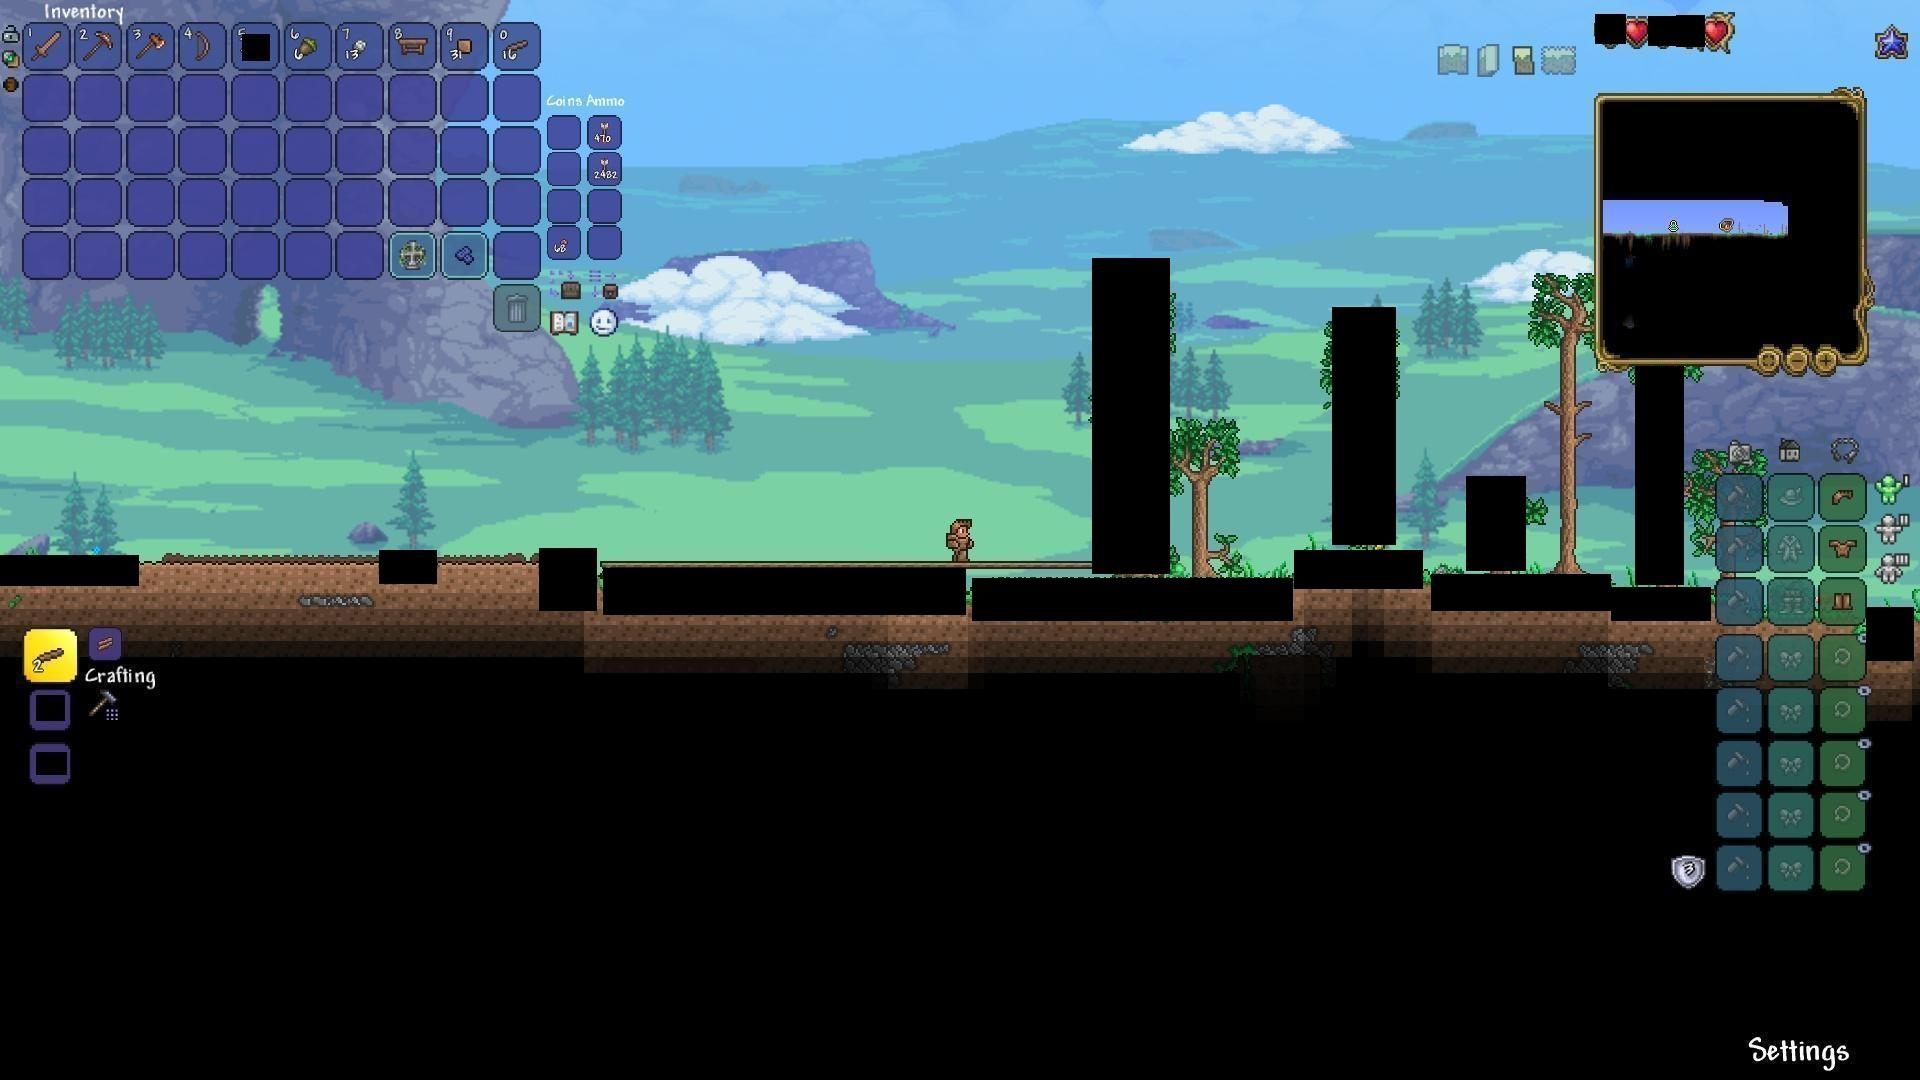breastplate: (1829, 537, 1859, 558)
heart: (1704, 16, 1731, 47), (1625, 17, 1651, 46)
helmet: (1826, 483, 1858, 512)
legs: (1830, 585, 1855, 616)
tree: (1534, 269, 1592, 572), (1172, 409, 1240, 576)
wood: (88, 628, 120, 658)
workbench: (394, 32, 431, 57)
